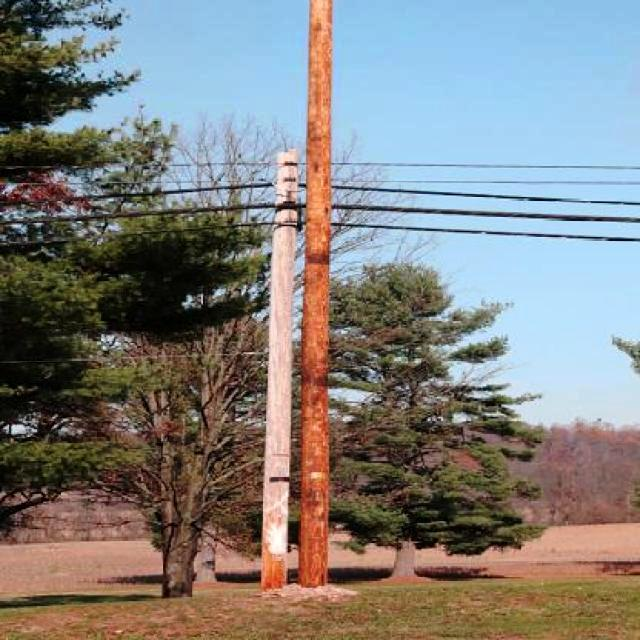poles: (222, 143, 311, 579)
wires: (330, 157, 634, 246)
